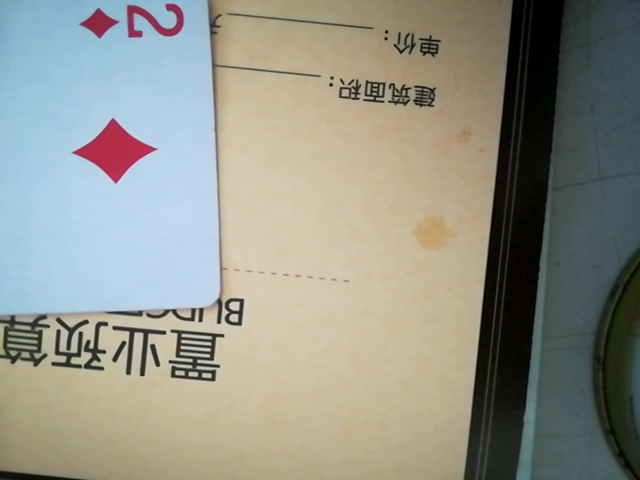fk 2: (0, 0, 223, 329)
